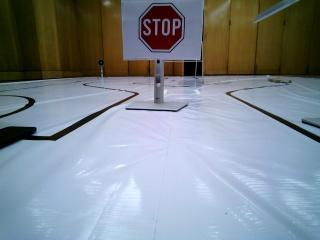stop: (124, 0, 192, 58)
